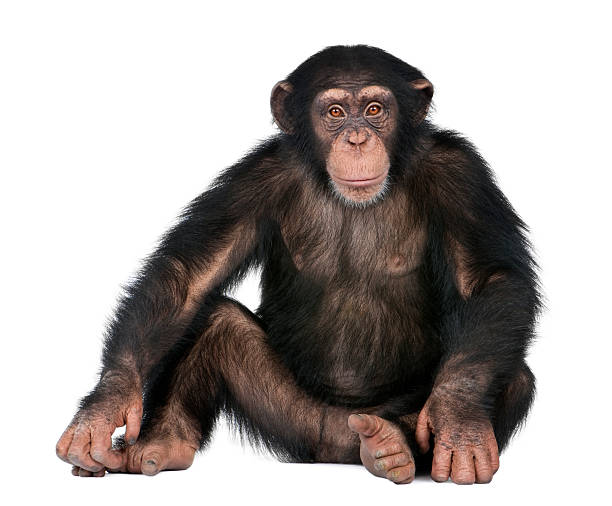chimpanzee: (251, 29, 467, 237)
